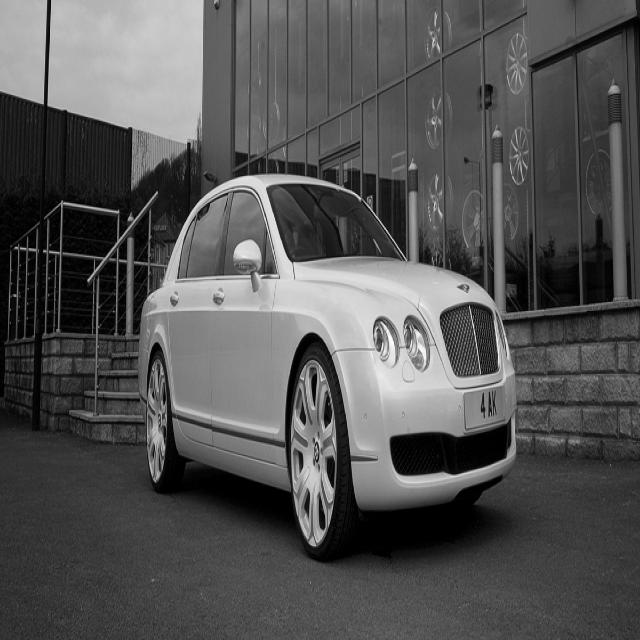car: (137, 171, 517, 560)
plat_license: (460, 387, 510, 432)
